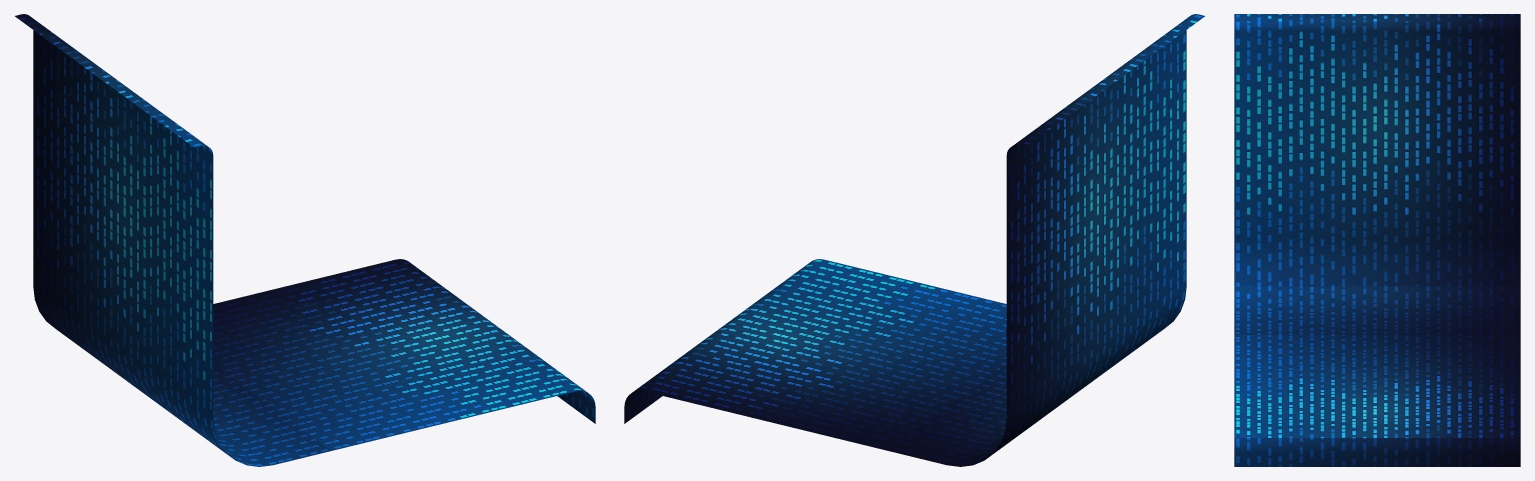
The model's file is uvwani.gltf.
The picture shows the model from 3 angles, left to right: view 1: azimuth 30°, elevation 25°; view 2: azimuth 150°, elevation 25°; view 3: azimuth 270°, elevation 25°; orthographic projection. The views are drawn at different scales.
Parts seen in each view (by area): view 1: Line001; view 2: Line001; view 3: Line001.
Boxes of the visible parts, bbox=[...] form: Line001: bbox=[15, 14, 595, 466]; Line001: bbox=[624, 14, 1204, 466]; Line001: bbox=[1234, 14, 1520, 466].
Bounding box in the file's own units: 8.54 × 7.61 × 6.64.
Materials: 1 (1 with a texture image).
